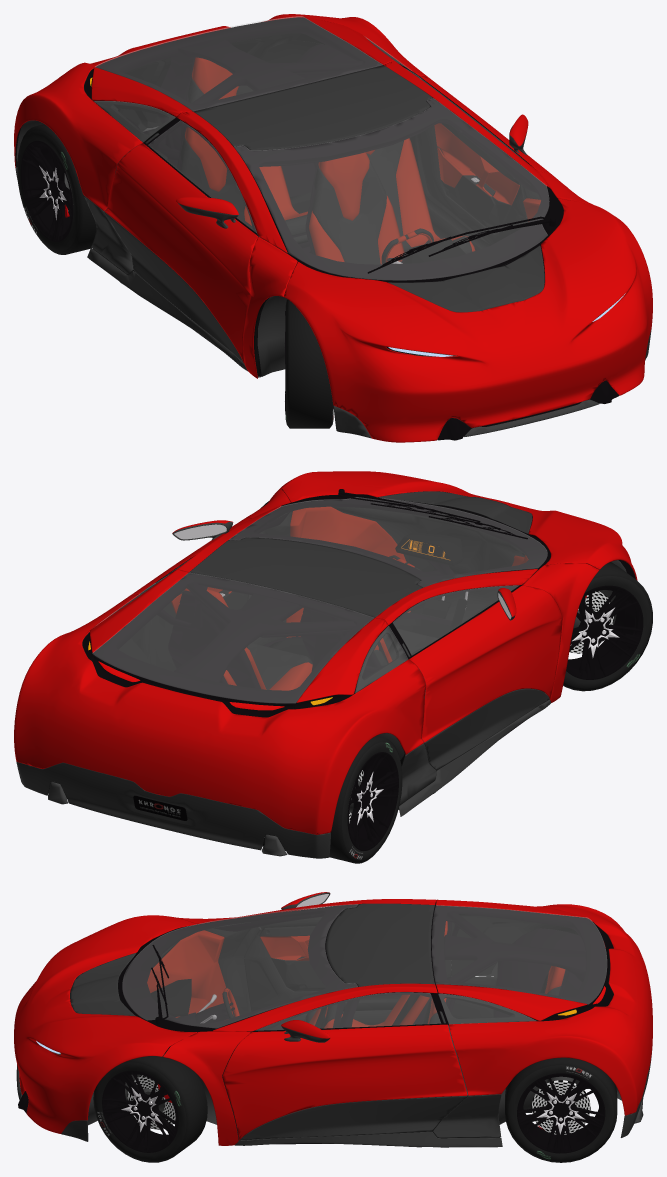
The model's file is coupe.glb.
3 renders of one model, top to bottom at view 1: azimuth 30°, elevation 25°; view 2: azimuth 150°, elevation 25°; view 3: azimuth 270°, elevation 25°, orthographic. The views are drawn at different scales.
Visible parts, largest first — view 1: BodyRearPanelsColor1, BodyWindshield, BodyWindshieldGasket, BodyRoofPanel, InteriorDashSides, InteriorDashMid, InteriorSeatsColor2, object 21, WheelFrontLRim, BodyUnderside, InteriorMid, InteriorSteeringDash; view 2: BodyRearPanelsColor1, BodyWindshield, BodyRoofPanel, BodyWindshieldGasket, InteriorDashMid, WheelFrontLRim, object 21, InteriorDashSides, InteriorSeatsColor2, InteriorFloormats, InteriorSteeringDash, BodyUnderside (+3 smaller); view 3: BodyRearPanelsColor1, BodyWindshield, BodyRoofPanel, BodyWindshieldGasket, object 21, WheelFrontLRim, InteriorDashMid, InteriorDashSides, InteriorMid, WheelFrontLBrakeDisc, BodyUnderside, InteriorSeatsColor2 (+1 smaller).
Part boxes in pixels (x1,y1,x2,y2): BodyRearPanelsColor1: (14,14,652,442); BodyWindshield: (94,16,549,280); BodyWindshieldGasket: (16,17,618,440); BodyRoofPanel: (15,65,651,438); InteriorDashSides: (185,57,540,349); InteriorDashMid: (15,33,526,281); InteriorSeatsColor2: (180,78,472,264); object 21: (17,124,333,428); WheelFrontLRim: (20,140,285,414); BodyUnderside: (16,78,526,425); InteriorMid: (93,174,557,376); InteriorSteeringDash: (404,239,465,263); BodyRearPanelsColor1: (14,471,637,834); BodyWindshield: (92,497,547,703); BodyRoofPanel: (16,491,550,858); BodyWindshieldGasket: (83,489,635,844); InteriorDashMid: (48,502,528,850); WheelFrontLRim: (347,585,643,850); object 21: (260,501,652,863); InteriorDashSides: (171,506,528,690); InteriorSeatsColor2: (246,628,437,689); InteriorFloormats: (268,598,467,659); InteriorSteeringDash: (395,533,462,566); BodyUnderside: (48,560,626,856); BodyRearPanelsColor1: (14,892,652,1145); BodyWindshield: (122,904,606,1030); BodyRoofPanel: (16,892,652,1147); BodyWindshieldGasket: (18,901,613,1144); object 21: (93,1054,617,1162); WheelFrontLRim: (102,1070,605,1153); InteriorDashMid: (118,907,613,1030); InteriorDashSides: (147,921,565,1028); InteriorMid: (205,922,499,1143); WheelFrontLBrakeDisc: (127,1075,590,1134); BodyUnderside: (38,927,643,1125); InteriorSeatsColor2: (304,973,560,1028).
Bounding box in the file's own units: 2.54 × 1.15 × 4.36.
Materials: 23 (6 with a texture image).
